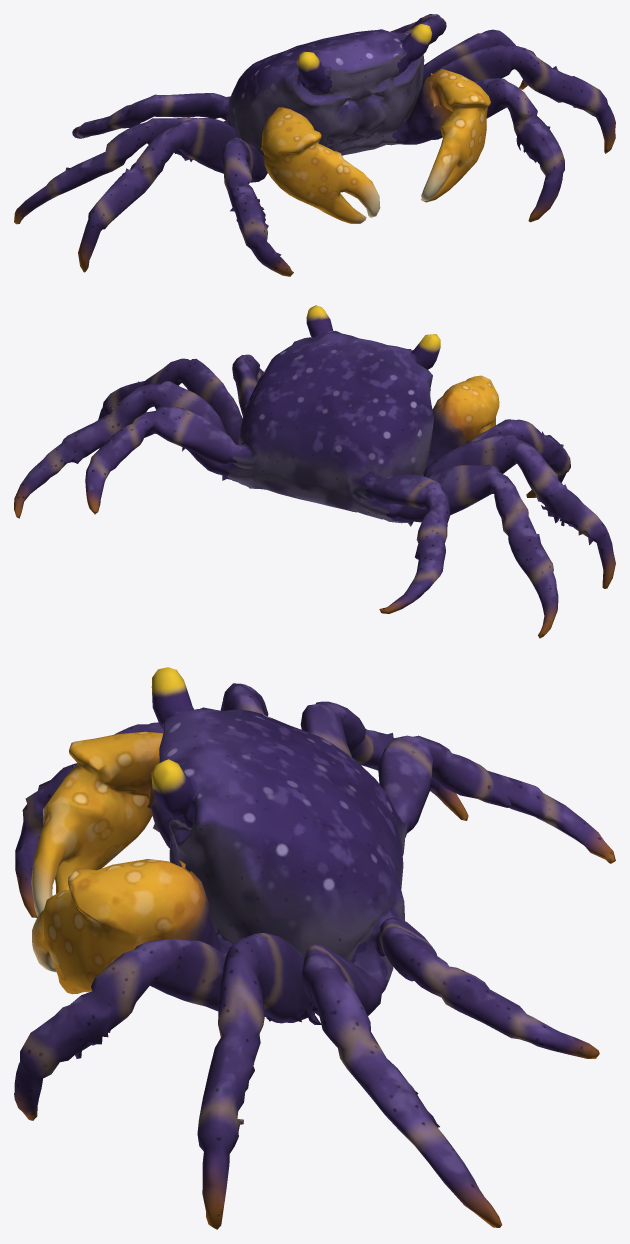
The model's file is crab.glb.
3 renders of one model, top to bottom at view 1: azimuth 30°, elevation 25°; view 2: azimuth 150°, elevation 25°; view 3: azimuth 270°, elevation 25°, orthographic. The views are drawn at different scales.
Parts seen in each view (by area): view 1: crab; view 2: crab; view 3: crab.
Boxes of the visible parts, box(x1,y1,x2,y2) form: crab: box(14, 14, 615, 276); crab: box(14, 305, 615, 638); crab: box(14, 667, 615, 1229).
Bounding box in the file's own units: 0.0644 × 0.0222 × 0.0387.
1 material, 1 textured.
